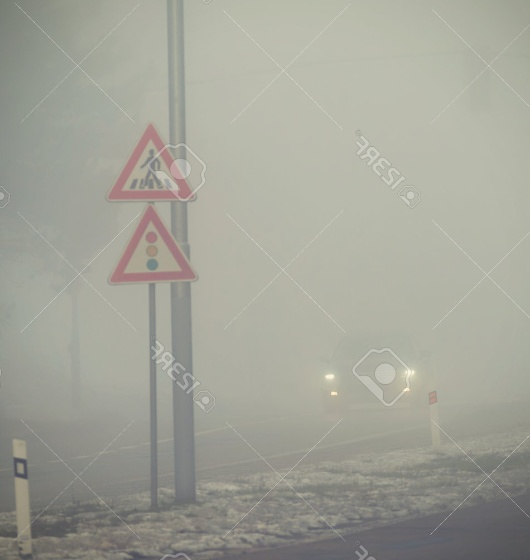Pedestrian crossing: (104, 120, 197, 203)
Traffic lights: (102, 208, 206, 284)
